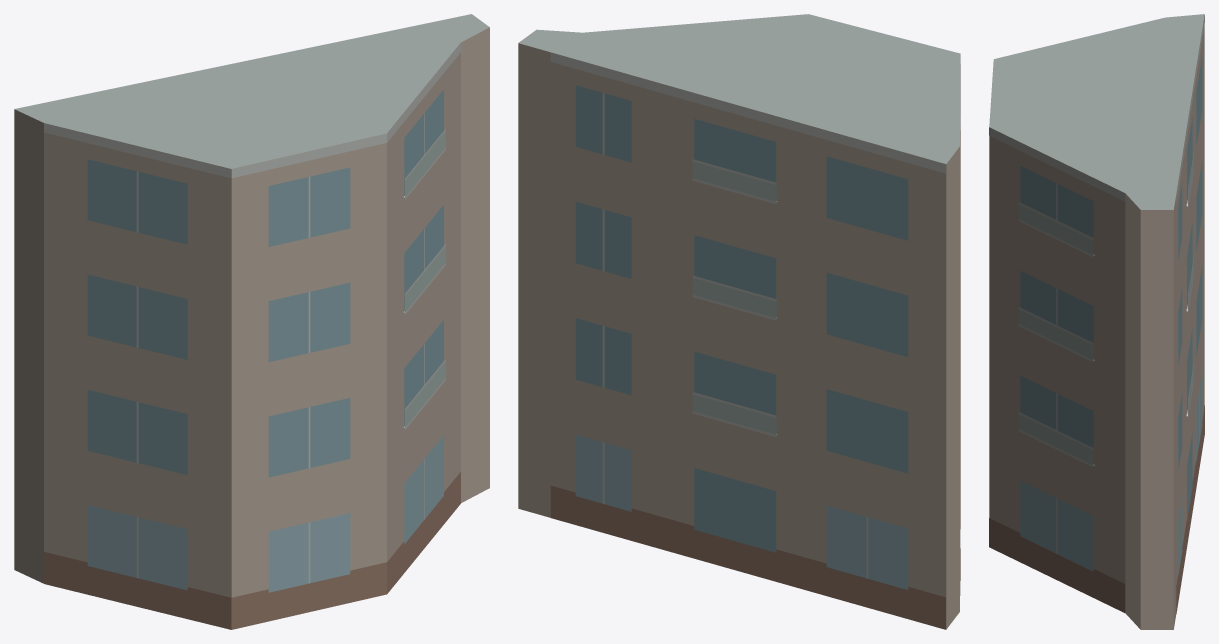
Rendered from survey-upis-32517408.glb.
3 views of the same model, side by side, from view 1: azimuth 30°, elevation 25°; view 2: azimuth 150°, elevation 25°; view 3: azimuth 270°, elevation 25° (orthographic). The views are drawn at different scales.
Parts seen in each view (by area): view 1: survey-upis-32517408.tmp; view 2: survey-upis-32517408.tmp; view 3: survey-upis-32517408.tmp.
Part boxes in pixels (x1,y1,x2,y2): survey-upis-32517408.tmp: (14, 14, 489, 629); survey-upis-32517408.tmp: (518, 14, 960, 629); survey-upis-32517408.tmp: (989, 14, 1204, 629).
Bounding box in the file's own units: 11.96 × 11.95 × 5.57.
